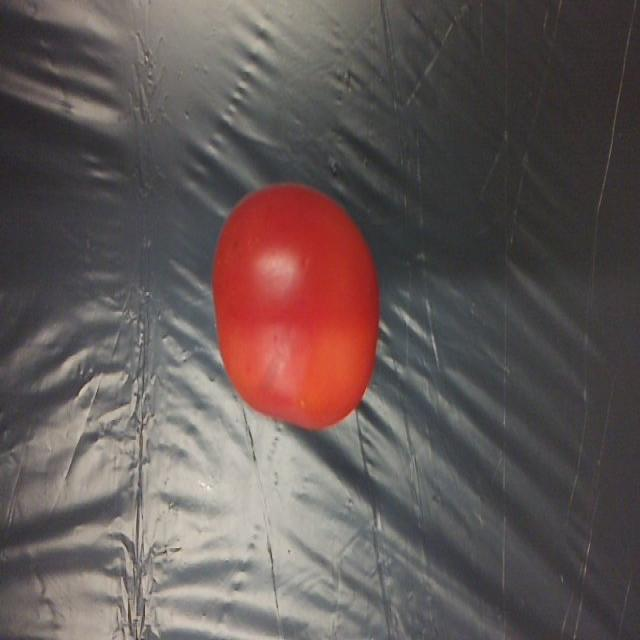kirmizi: (200, 188, 399, 428)
